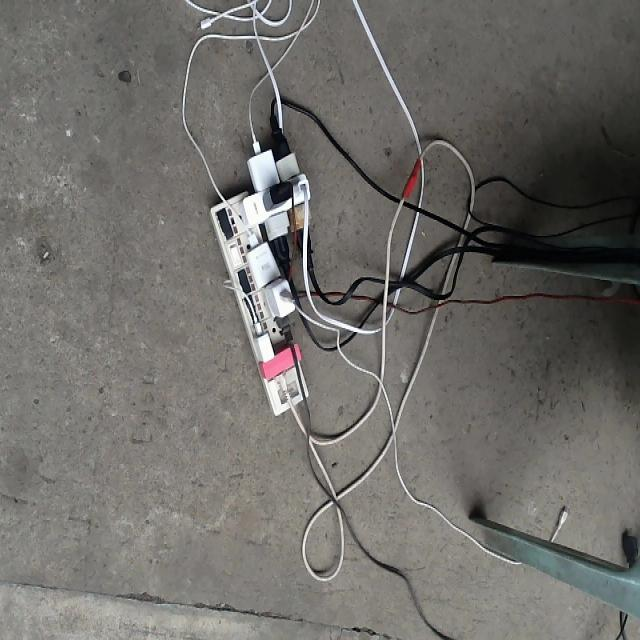-: (209, 111, 319, 417)
